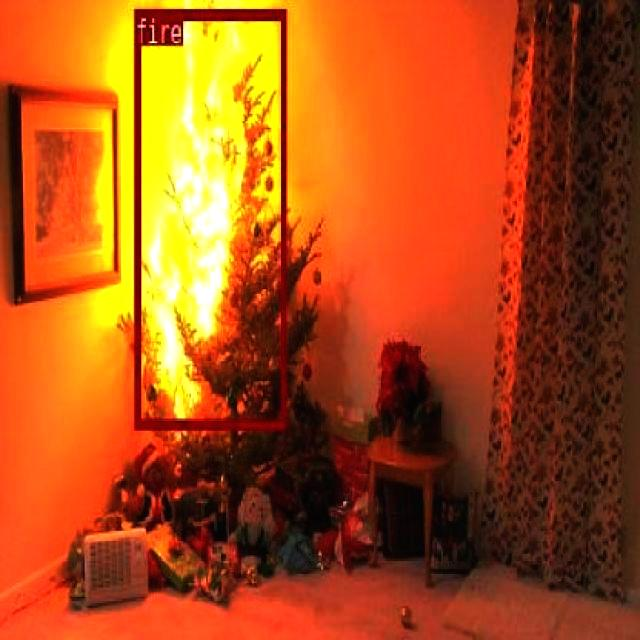fire: (132, 8, 286, 428)
